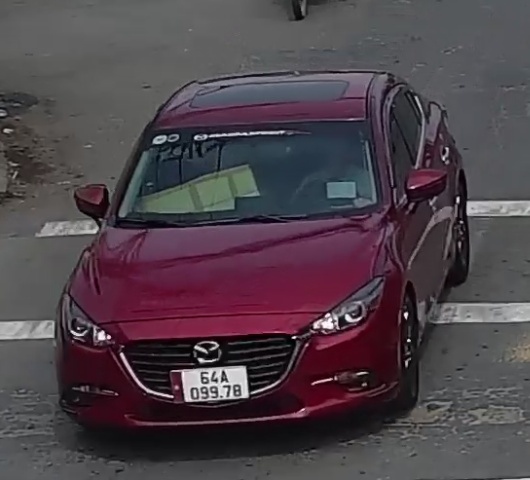vehicle plate: (170, 368, 253, 401)
